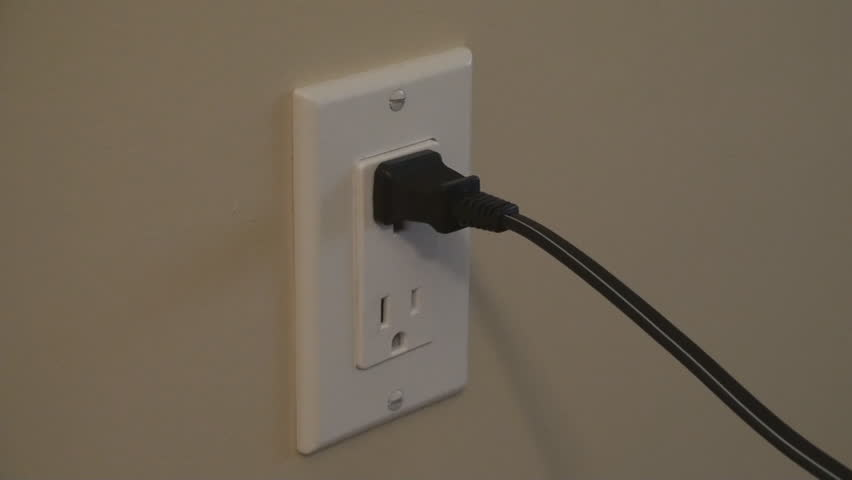outlet: (361, 281, 445, 360)
